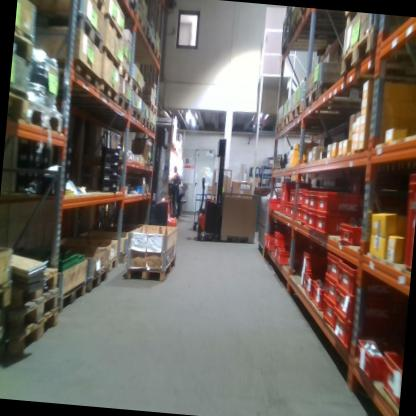pallet: (33, 9, 103, 52), (339, 26, 388, 82), (37, 54, 102, 93), (13, 306, 57, 358), (18, 94, 66, 137), (16, 286, 58, 332), (126, 251, 178, 285), (20, 266, 59, 306), (303, 77, 341, 116), (60, 276, 87, 314), (8, 88, 30, 128), (123, 11, 151, 41), (13, 28, 35, 64), (86, 265, 109, 298), (97, 49, 121, 75), (102, 15, 124, 43), (0, 281, 14, 321), (98, 82, 120, 107), (75, 0, 107, 16), (113, 96, 131, 122), (103, 252, 120, 278), (110, 0, 136, 16), (288, 102, 303, 129), (140, 97, 159, 116), (117, 67, 134, 86), (151, 41, 163, 67), (130, 76, 144, 98), (278, 113, 289, 139), (0, 336, 7, 376), (124, 111, 141, 126), (136, 116, 150, 131), (149, 124, 157, 135), (274, 124, 281, 136)
pallet_truck: (148, 124, 190, 234), (194, 137, 229, 244)
small_load_carrier: (331, 310, 385, 353), (333, 286, 388, 327), (336, 259, 389, 294), (402, 171, 416, 275), (316, 191, 364, 220), (355, 339, 389, 379), (313, 214, 362, 240), (280, 181, 312, 217), (381, 354, 404, 393), (324, 253, 345, 285), (301, 273, 325, 300), (302, 250, 327, 275), (339, 220, 362, 245), (323, 278, 341, 308), (322, 298, 338, 328), (274, 232, 300, 250), (277, 248, 301, 266), (312, 283, 324, 310), (307, 190, 318, 213), (306, 211, 316, 231), (296, 187, 304, 207), (302, 191, 310, 209), (289, 188, 297, 205), (269, 199, 281, 210), (301, 207, 308, 224), (265, 235, 274, 248), (295, 206, 302, 222), (300, 271, 306, 288), (288, 204, 295, 218), (268, 240, 276, 252), (284, 201, 290, 216)
stillage: (219, 189, 260, 245), (254, 196, 269, 256)
